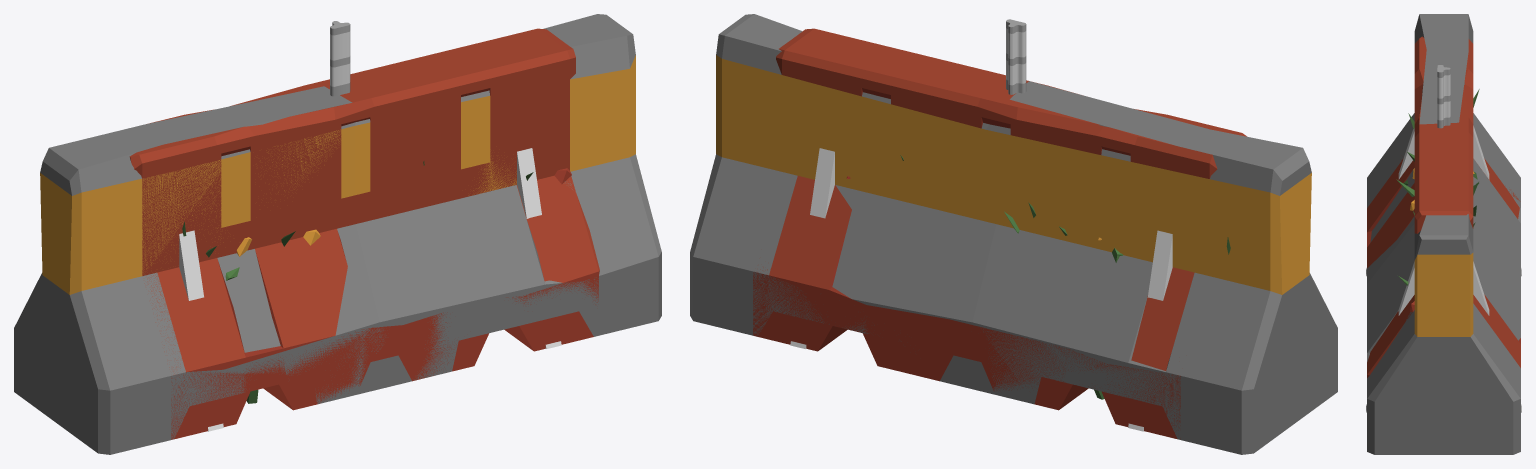
The model's file is dividers.gltf.
3 views of the same model, side by side, from view 1: azimuth 30°, elevation 25°; view 2: azimuth 150°, elevation 25°; view 3: azimuth 270°, elevation 25° (orthographic). The views are drawn at different scales.
Visible parts, largest first — view 1: jersey-barrier-concrete, jersey-barrier-plastic, barricade, bollard, planter-box; view 2: jersey-barrier-concrete, jersey-barrier-plastic, barricade, bollard; view 3: jersey-barrier-concrete, jersey-barrier-plastic, barricade, bollard, planter-box.
Part boxes in pixels (box(x1,y1,x2,y2)): jersey-barrier-concrete: box(14, 14, 661, 454); jersey-barrier-plastic: box(129, 28, 599, 439); barricade: box(179, 148, 561, 431); bollard: box(330, 21, 350, 96); planter-box: box(182, 161, 571, 280); jersey-barrier-concrete: box(690, 14, 1337, 454); jersey-barrier-plastic: box(753, 28, 1246, 439); barricade: box(790, 148, 1172, 431); bollard: box(1006, 19, 1026, 94); jersey-barrier-concrete: box(1367, 14, 1520, 454); jersey-barrier-plastic: box(1367, 36, 1520, 377); barricade: box(1366, 125, 1521, 412); bollard: box(1437, 65, 1450, 128); planter-box: box(1396, 89, 1479, 312).
Size of the model in its own units: 2.29 by 1.28 by 0.664.
1 material, 1 textured.
